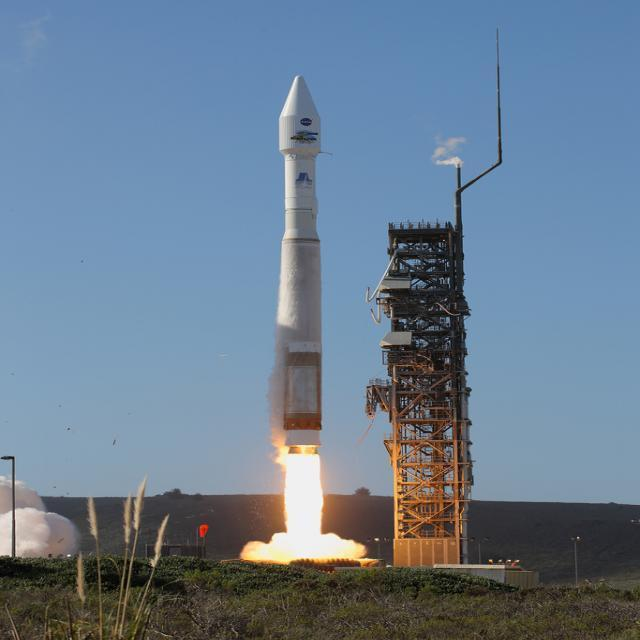missile: (279, 71, 323, 460)
